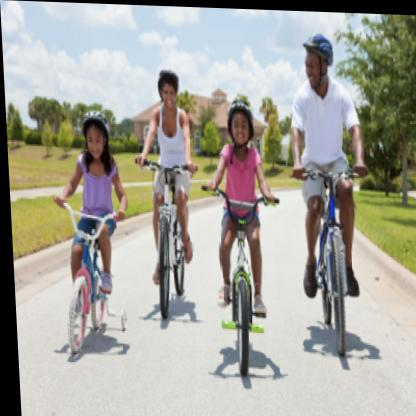With Helmet: (75, 103, 117, 165), (153, 56, 189, 122), (300, 26, 336, 88), (224, 95, 256, 149)
